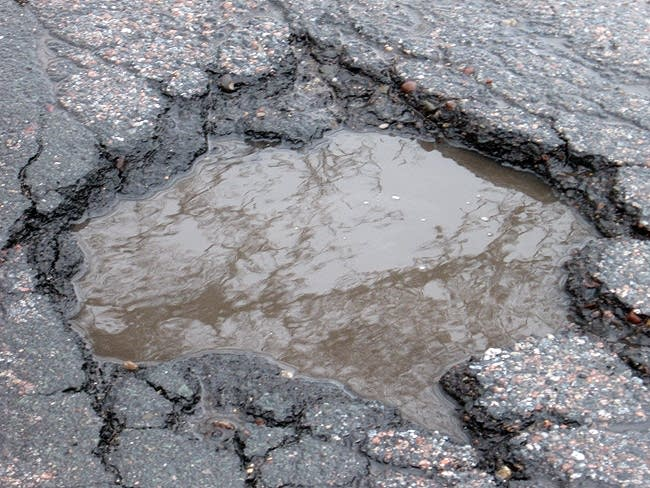pothole: (30, 56, 607, 433)
